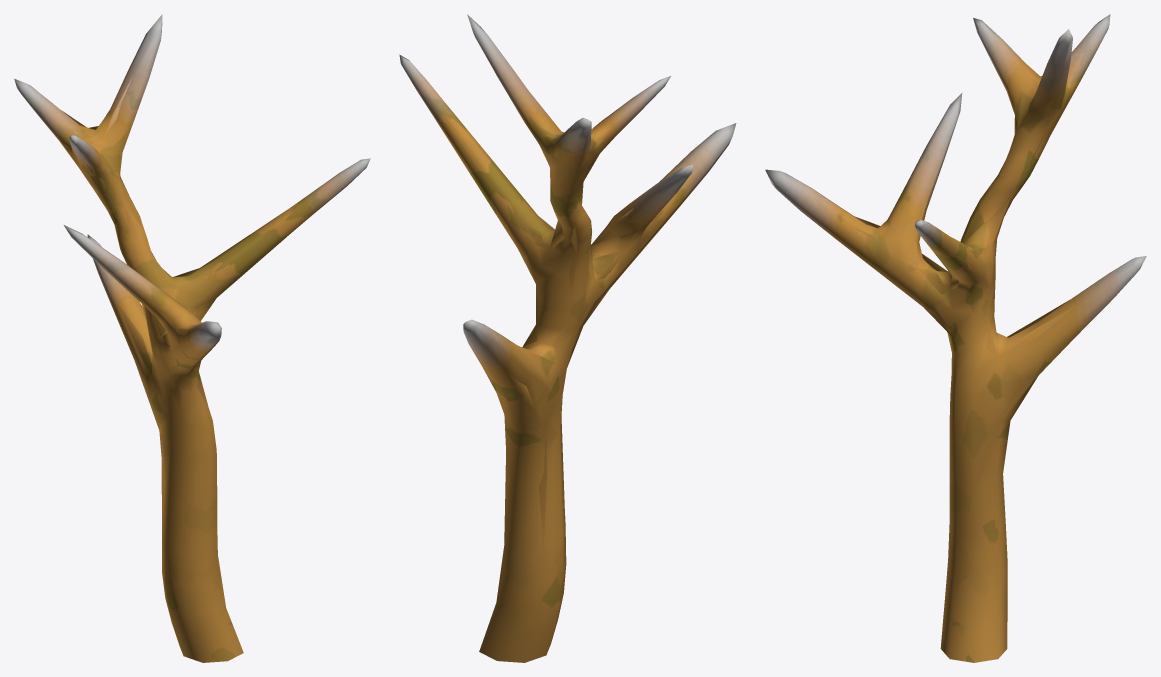
Rendered from 33-Staghorn.fbx.
The picture shows the model from 3 angles, left to right: view 1: azimuth 30°, elevation 25°; view 2: azimuth 150°, elevation 25°; view 3: azimuth 270°, elevation 25°; orthographic projection. The views are drawn at different scales.
Visible parts, largest first — view 1: 33-Staghorn_LOD00, 33-Staghorn_LOD00.001; view 2: 33-Staghorn_LOD00, 33-Staghorn_LOD00.001; view 3: 33-Staghorn_LOD00, 33-Staghorn_LOD00.001.
Part boxes in pixels (x1,y1,x2,y2): 33-Staghorn_LOD00: (14, 14, 370, 662); 33-Staghorn_LOD00.001: (55, 78, 311, 647); 33-Staghorn_LOD00: (399, 14, 736, 662); 33-Staghorn_LOD00.001: (439, 74, 667, 646); 33-Staghorn_LOD00: (765, 14, 1146, 662); 33-Staghorn_LOD00.001: (852, 61, 1084, 657).
Bounding box in the file's own units: 30.82 × 62.14 × 34.76.
